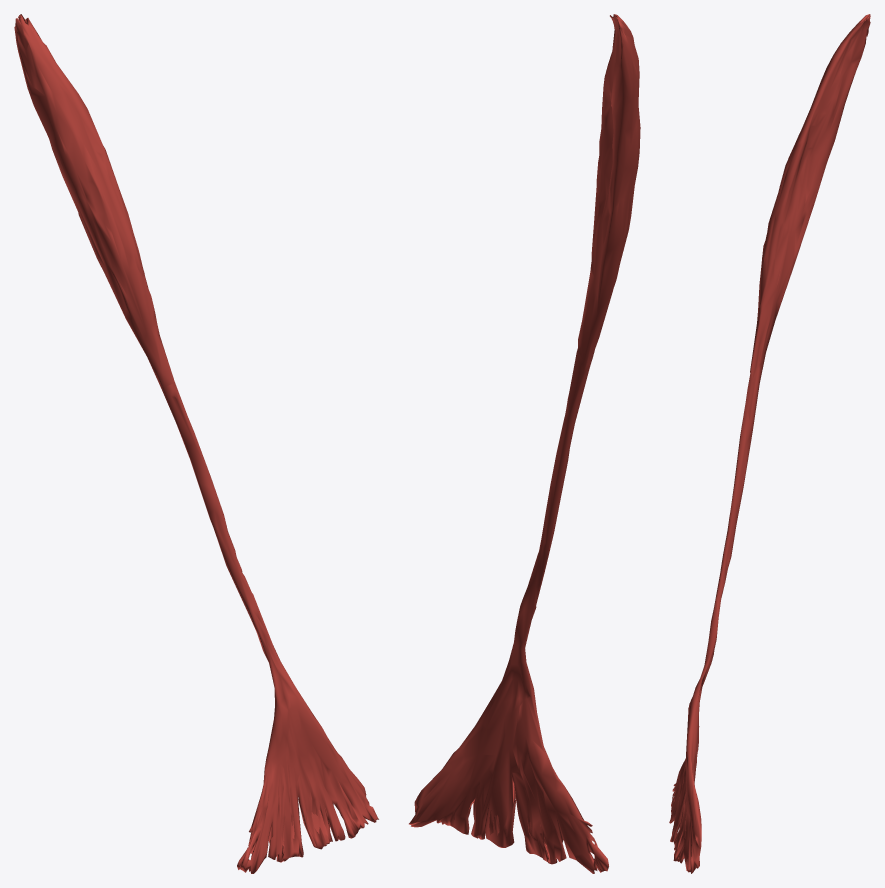
File: musculos-palmaris-longus-muscle-l.glb
The picture shows the model from 3 angles, left to right: view 1: azimuth 30°, elevation 25°; view 2: azimuth 150°, elevation 25°; view 3: azimuth 270°, elevation 25°; orthographic projection. The views are drawn at different scales.
Parts seen in each view (by area): view 1: Palmaris longus muscle.l; view 2: Palmaris longus muscle.l; view 3: Palmaris longus muscle.l.
Boxes of the visible parts, box(x1,y1,x2,y2) form: Palmaris longus muscle.l: box(14, 14, 378, 873); Palmaris longus muscle.l: box(409, 14, 640, 873); Palmaris longus muscle.l: box(669, 14, 870, 873).
Bounding box in the file's own units: 0.1152 × 0.3312 × 0.0803.
